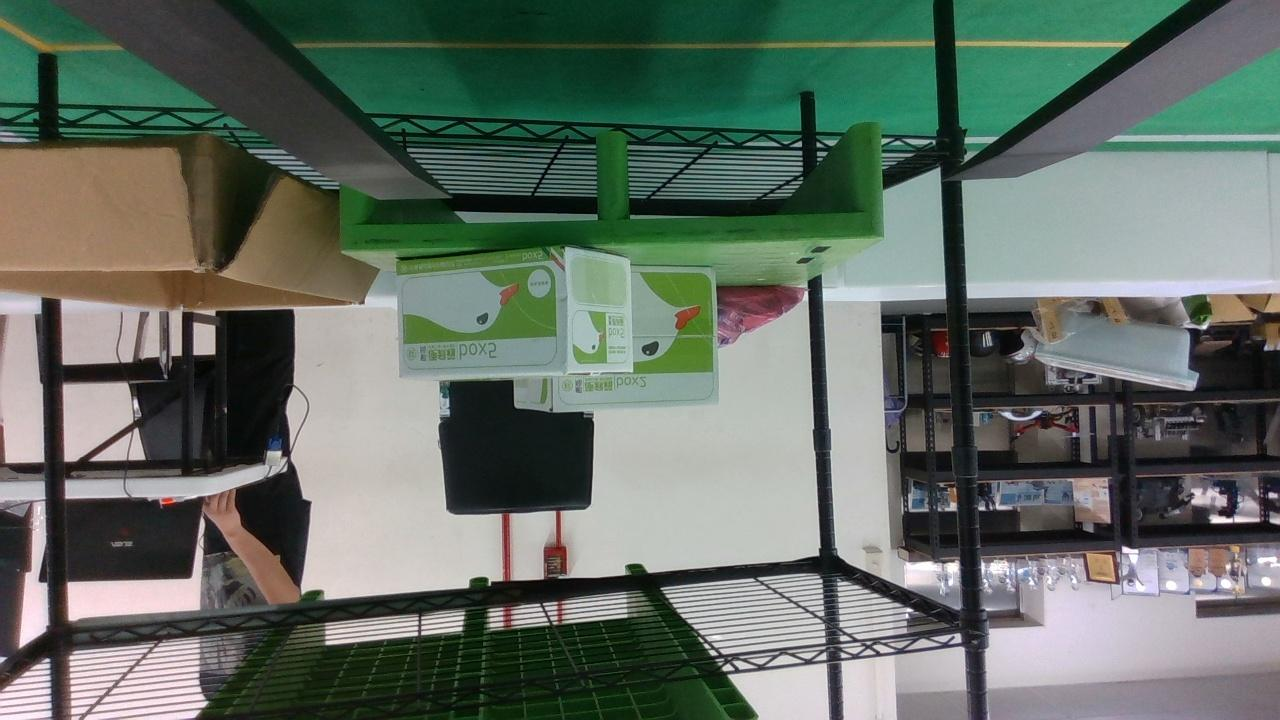Pallet: (339, 120, 886, 241)
